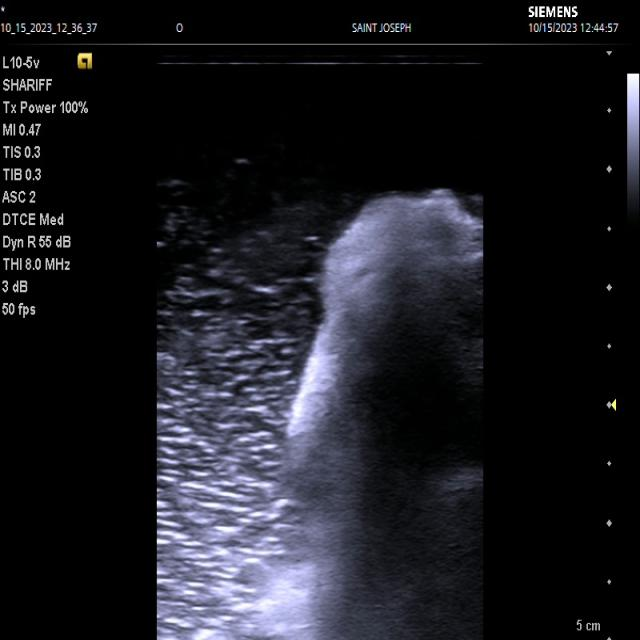tissue: (240, 189, 488, 640)
